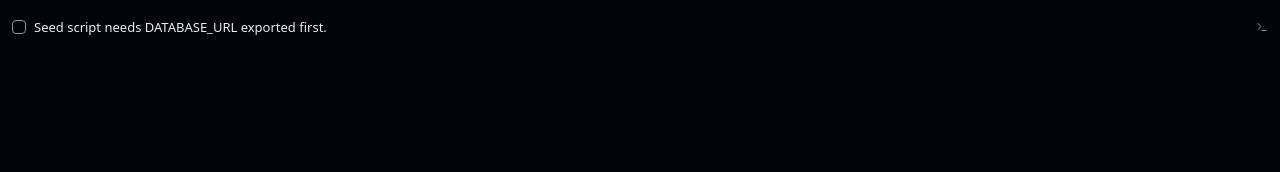
Scenario: NoteRow › keeps the text and shows a retry strip when save fails
The width and height of the screenshot is (1280, 172).
Press Enter in the element showing "Seed script needs DATABASE_URL exported first.", box [4, 12, 1276, 42]
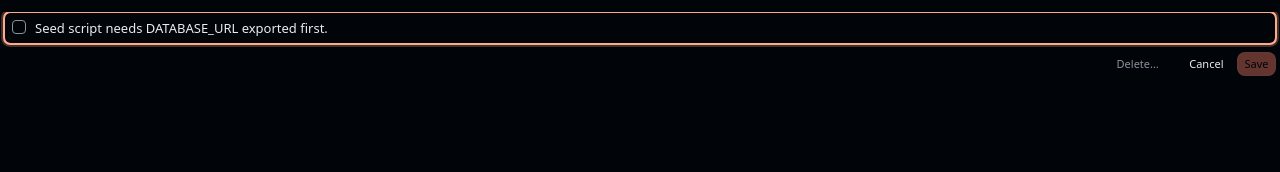
Replace the text in the text box named "Edit note" with "precious edit" at (640, 28), box [4, 12, 1276, 44]
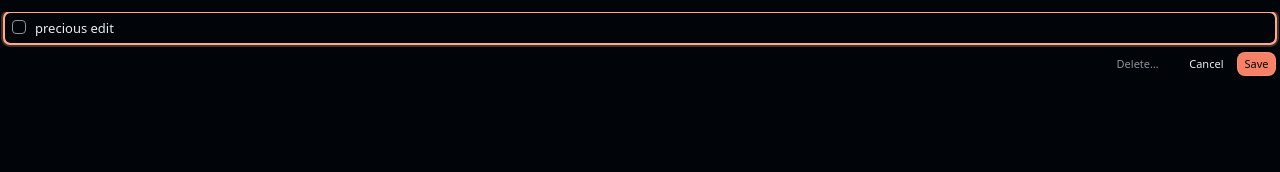
Press Enter in the text box named "Edit note", box [4, 12, 1276, 44]
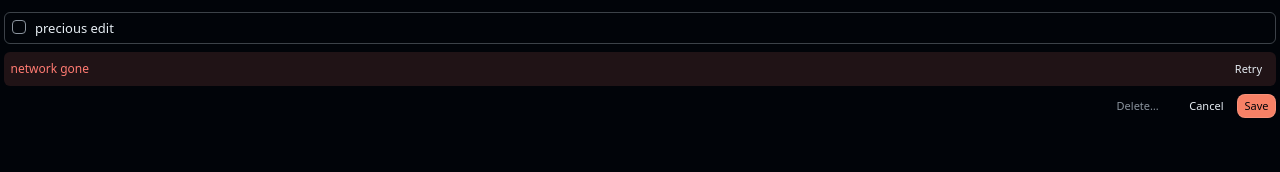
Result: the message shows "network gone" at [10, 60, 89, 77]
